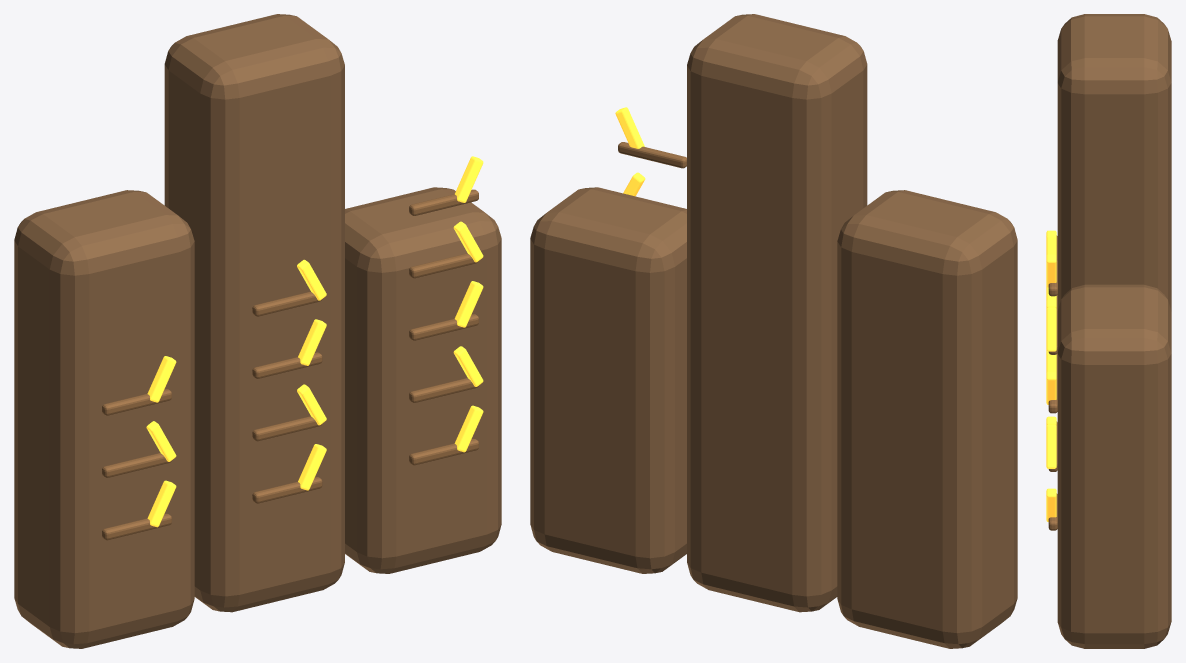
Rendered from chamber_landmark.glb.
3 renders of one model, left to right at view 1: azimuth 30°, elevation 25°; view 2: azimuth 150°, elevation 25°; view 3: azimuth 270°, elevation 25°, orthographic. The views are drawn at different scales.
Visible parts, largest first — view 1: chamber_landmark; view 2: chamber_landmark; view 3: chamber_landmark.
Part boxes in pixels (x1,y1,x2,y2): chamber_landmark: (14, 14, 501, 648); chamber_landmark: (530, 14, 1017, 648); chamber_landmark: (1046, 14, 1171, 648).
Size of the model in its own units: 2.86 by 3.35 by 0.735.
